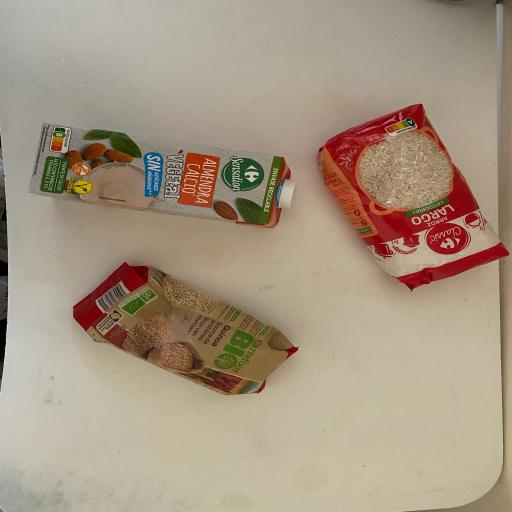milk_almendra: (25, 119, 297, 232)
quinoa: (68, 258, 299, 400)
rice: (314, 101, 507, 290)
